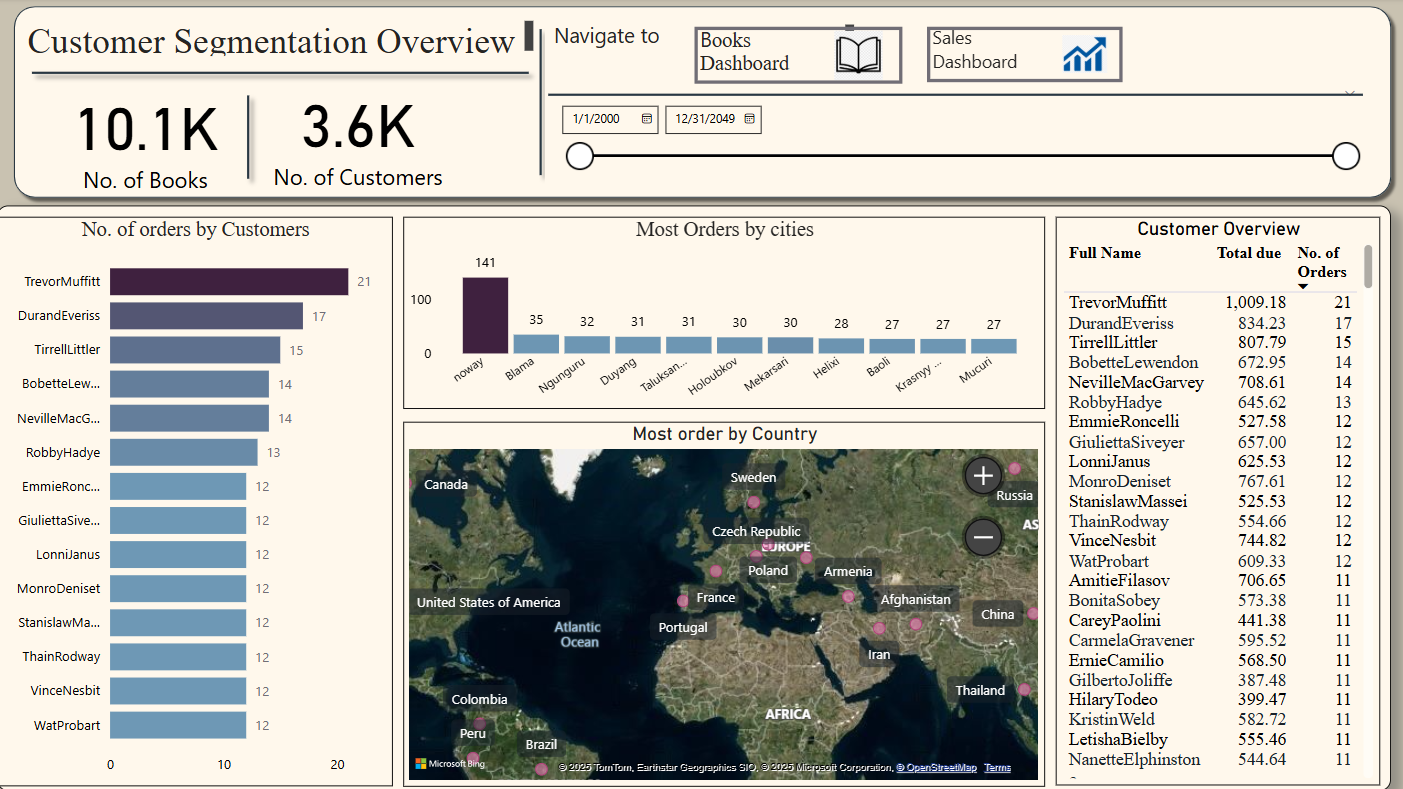

The dashboard page shown, as its layout file describes it:
{"tool":"powerbi","page":{"name":"Customer Segmentation","canvas":[1280,720],"ordinal":2},"visuals":[{"type":"shape","box":[8.4,0,1264.6,188.6],"z":0},{"type":"shape","box":[0,188.3,1264.9,531.4],"z":1000},{"type":"tableEx","title":"Customer Overview","fields":{"Values":["DimCust.Full Name","_measures.Total due","_measures.No. of Orders"]},"box":[960.9,198,294.3,516],"z":2000},{"type":"map","title":"Most order by Country ","fields":{"Category":["DimCust.country_name"]},"box":[368.6,383.9,582.2,330.9],"z":3000},{"type":"clusteredBarChart","title":"No. of orders by Customers","fields":{"Y":["_measures.No. of Orders"],"Category":["DimCust.Full Name"]},"box":[0,198.3,358.8,516.6],"z":4000},{"type":"clusteredColumnChart","title":"Most Orders by cities ","fields":{"Category":["DimCust.city"],"Y":["_measures.No. of Orders"]},"box":[368.6,198.3,582.2,174.5],"z":5000},{"type":"textbox","box":[22.3,15.4,469.1,41.9],"z":6000},{"type":"shape","box":[22.3,57.2,469.1,22.3],"z":7000},{"type":"card","fields":{"Values":["_measures.No. of Books"]},"box":[41.9,68.4,185.7,114.5],"z":8000},{"type":"card","fields":{"Values":["_measures.No. of Customers"]},"box":[227.6,68.4,199.7,108.9],"z":9000},{"type":"shape","box":[215,79.6,25.1,93.5],"z":10000},{"type":"shape","box":[484.5,19.5,12.6,150.8],"z":11000},{"type":"slicer","title":"TimeLine ","fields":{"Values":["DimDate.Date"]},"box":[500.3,79.7,744.8,90.8],"z":12000},{"type":"shape","box":[500.3,79.7,739.2,16.8],"z":13000},{"type":"textbox","box":[500.3,15.4,123,40.5],"z":14000},{"type":"textbox","box":[633,19.6,149.5,54.5],"z":15501},{"type":"image","box":[743.4,25.2,78.3,54.5],"z":16501},{"type":"actionButton","box":[633,26.6,188.6,51.7],"z":17501},{"type":"textbox","box":[844,19.6,145.3,58.7],"z":17502},{"type":"actionButton","box":[844,26.6,177.5,50.3],"z":17503},{"type":"image","box":[961.4,19.6,50.3,62.9],"z":17504}]}

Visuals, with their boxes in screenshot pixels (x1, y1, x2, y2), scaled from the page's 1280x720 canvas onto the 1403x789 screenshot:
shape: <box>9,0,1395,207</box>
shape: <box>0,206,1386,788</box>
"Customer Overview" tableEx: <box>1053,217,1376,782</box>
"Most order by Country " map: <box>404,421,1042,783</box>
"No. of orders by Customers" clusteredBarChart: <box>0,217,393,783</box>
"Most Orders by cities " clusteredColumnChart: <box>404,217,1042,409</box>
textbox: <box>24,17,539,63</box>
shape: <box>24,63,539,87</box>
card - _measures.No. of Books: <box>46,75,249,200</box>
card - _measures.No. of Customers: <box>249,75,468,194</box>
shape: <box>236,87,263,190</box>
shape: <box>531,21,545,187</box>
"TimeLine " slicer: <box>548,87,1365,187</box>
shape: <box>548,87,1359,106</box>
textbox: <box>548,17,683,61</box>
textbox: <box>694,21,858,81</box>
image: <box>815,28,901,87</box>
actionButton: <box>694,29,901,86</box>
textbox: <box>925,21,1084,86</box>
actionButton: <box>925,29,1120,84</box>
image: <box>1054,21,1109,90</box>
